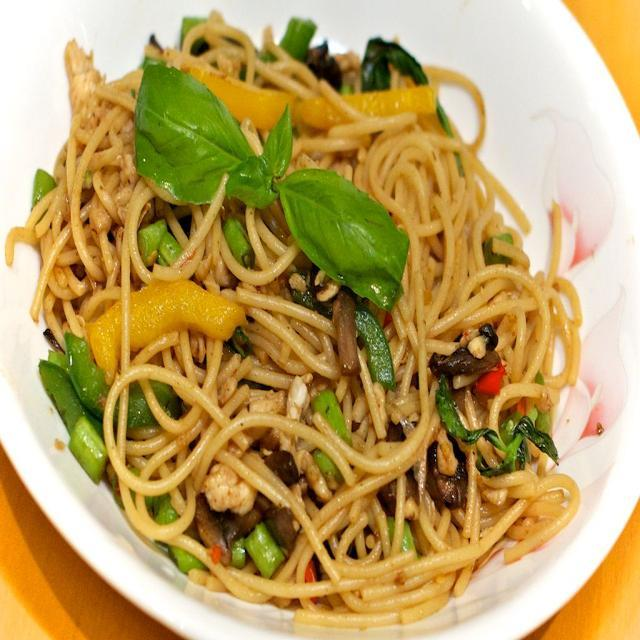cac loai rau cu: (130, 62, 409, 306), (427, 385, 562, 474), (94, 286, 240, 355), (194, 53, 288, 124), (283, 79, 434, 123), (37, 330, 104, 426), (277, 3, 356, 84), (347, 23, 437, 93), (432, 327, 520, 389), (348, 306, 399, 385), (61, 411, 107, 483), (215, 200, 255, 274), (133, 213, 186, 268), (18, 139, 56, 212), (248, 519, 289, 580)
mi ga hung que kem: (13, 0, 606, 624)
soi mi khoai lang: (311, 472, 590, 614), (372, 126, 565, 310), (32, 79, 127, 326), (117, 323, 201, 548), (231, 286, 338, 434), (492, 307, 597, 397), (200, 347, 256, 469)
thit ga: (191, 456, 260, 518), (64, 42, 107, 127), (478, 470, 520, 514), (437, 426, 462, 474)
